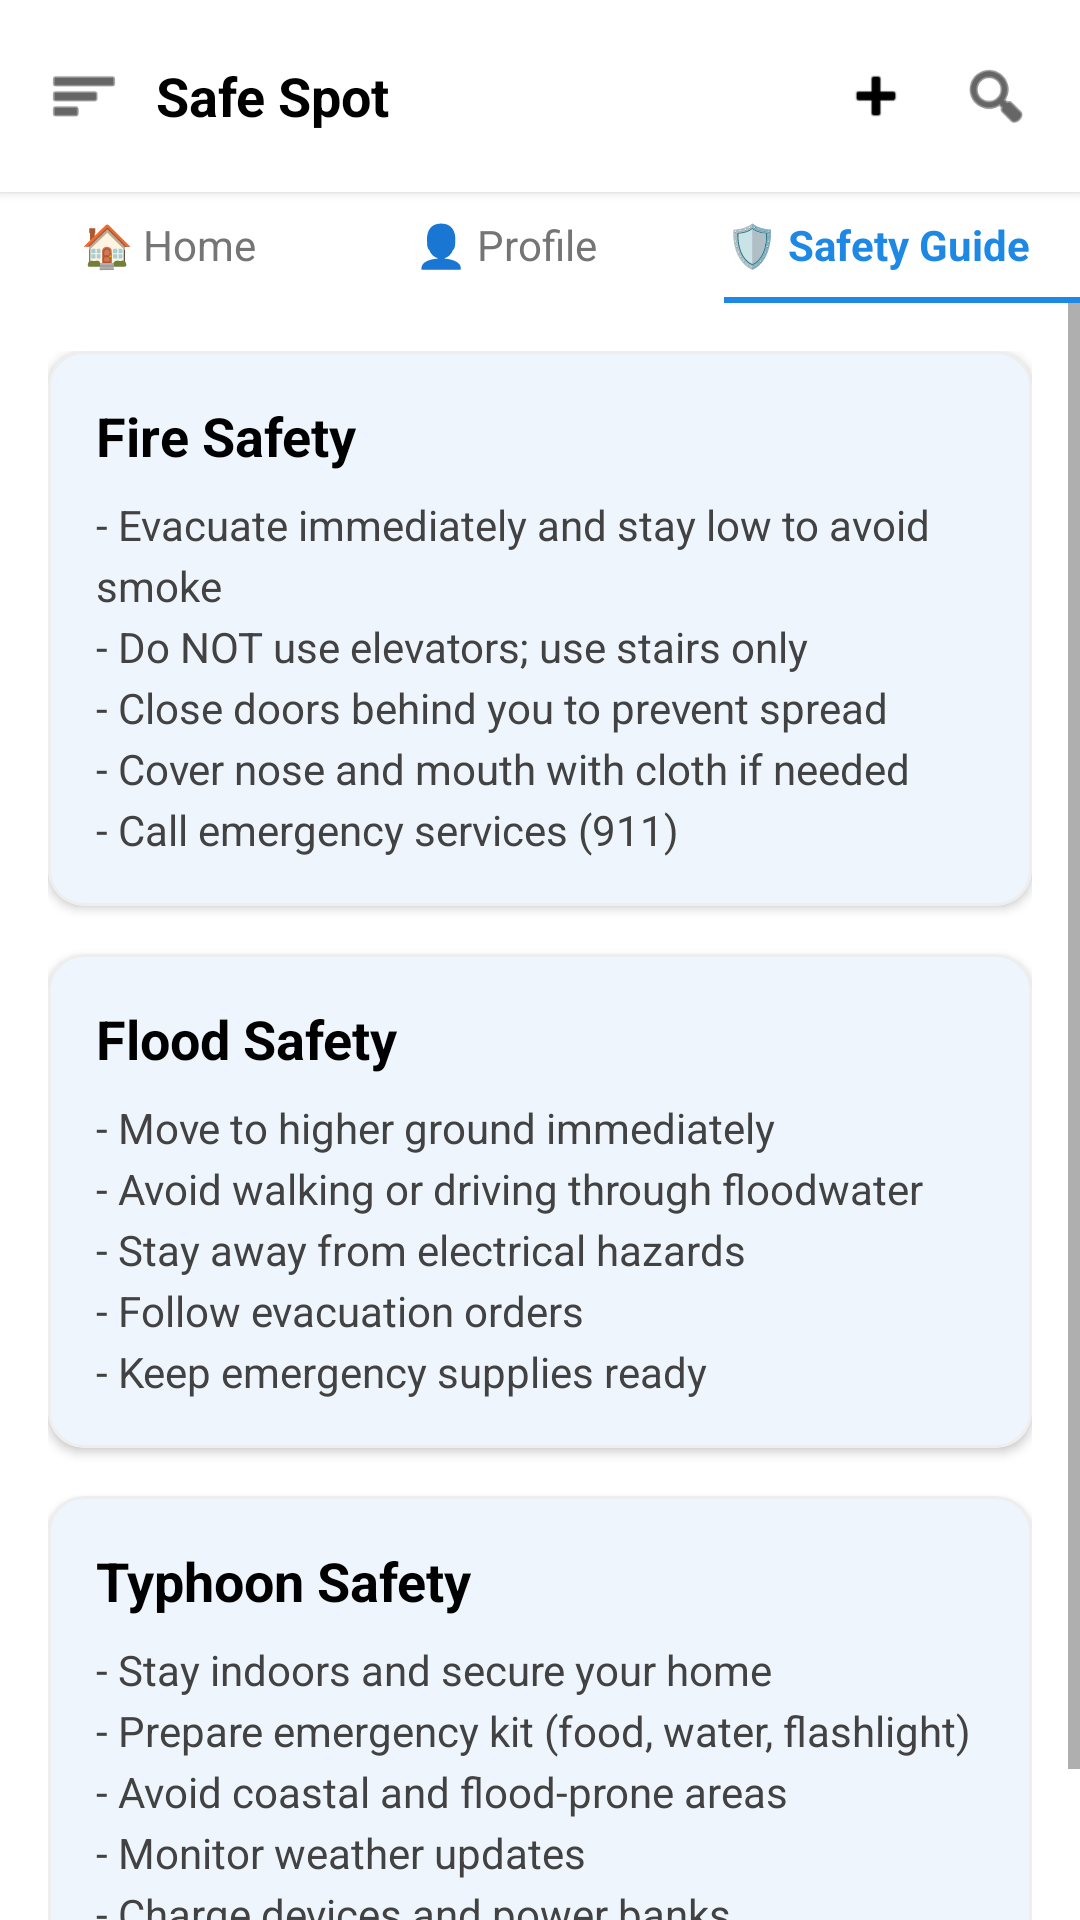

Icon bounding boxes for this 1080w x 1920h phone screenshot, format (x1,y1,x2,y2):
add: (855,76,897,116)
search: (969,70,1023,123)
sort by size: (53,76,115,117)
